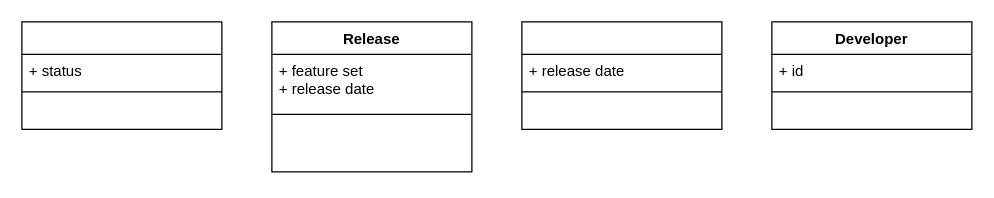
This 994x198 diagram has some shape labels left out. The box of each missing label's shape, as (x1, y1, x2, y2) in pixels:
Feature: (521, 21, 722, 129)
Project: (21, 21, 222, 129)
